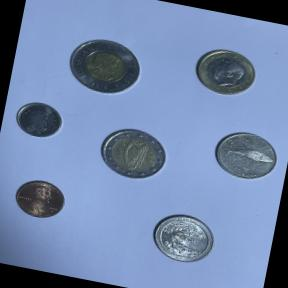coin: (60, 30, 148, 102), (91, 119, 175, 188), (185, 38, 269, 107), (206, 122, 284, 187), (145, 206, 221, 270), (8, 172, 72, 226), (8, 96, 68, 146)
